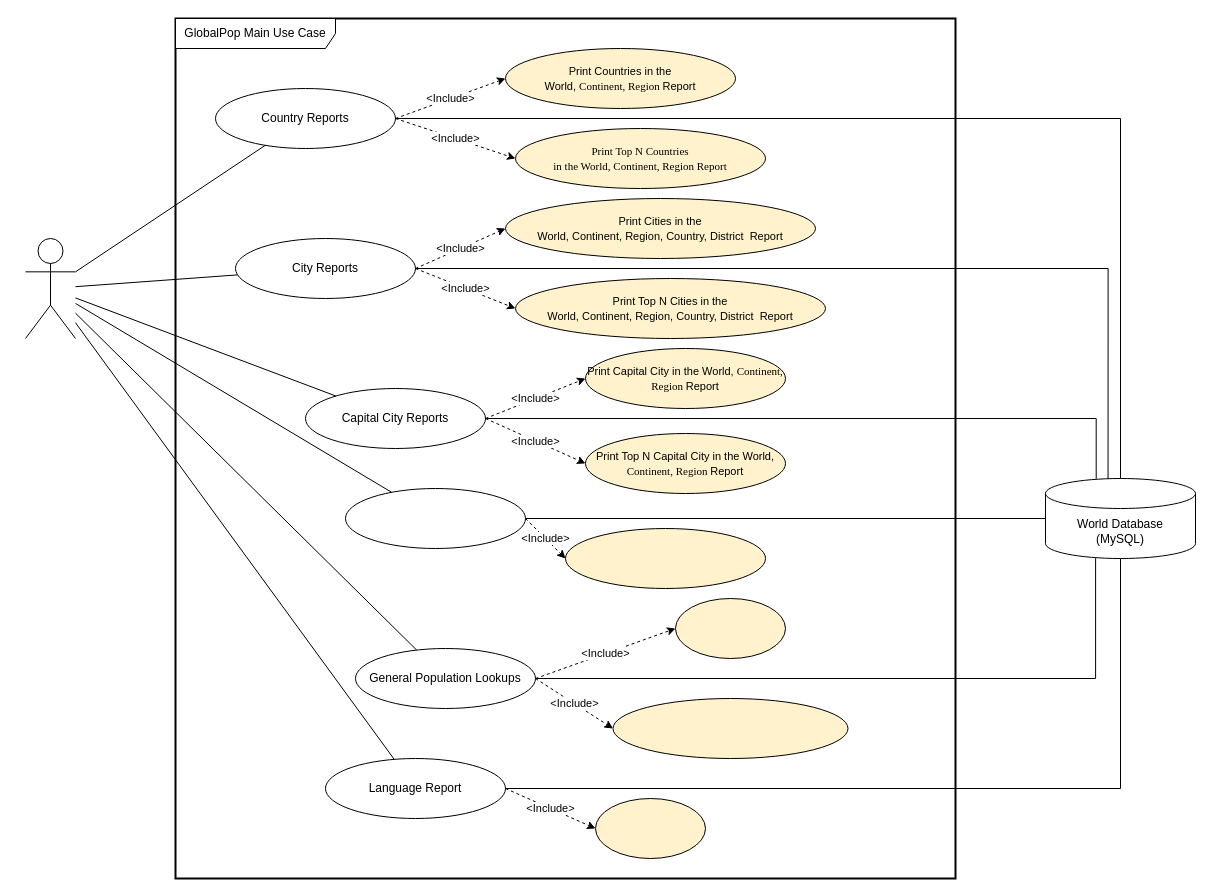
Image size: 1213x896. Some labels were removed from this diagram. The shapes that lost their labels are listed below. From the top down, each one's centre as x and y in pixels, then its label:
point 50,288: Data Analyst
point 435,518: Population Living In/Out of Cities
point 665,558: Population Living In/Out of Cities, Region, Country
point 730,628: Print Total World Population
point 730,728: Print Total Population of the Continent, Region, Country, District, City
point 650,828: Print Language Statistics Report
